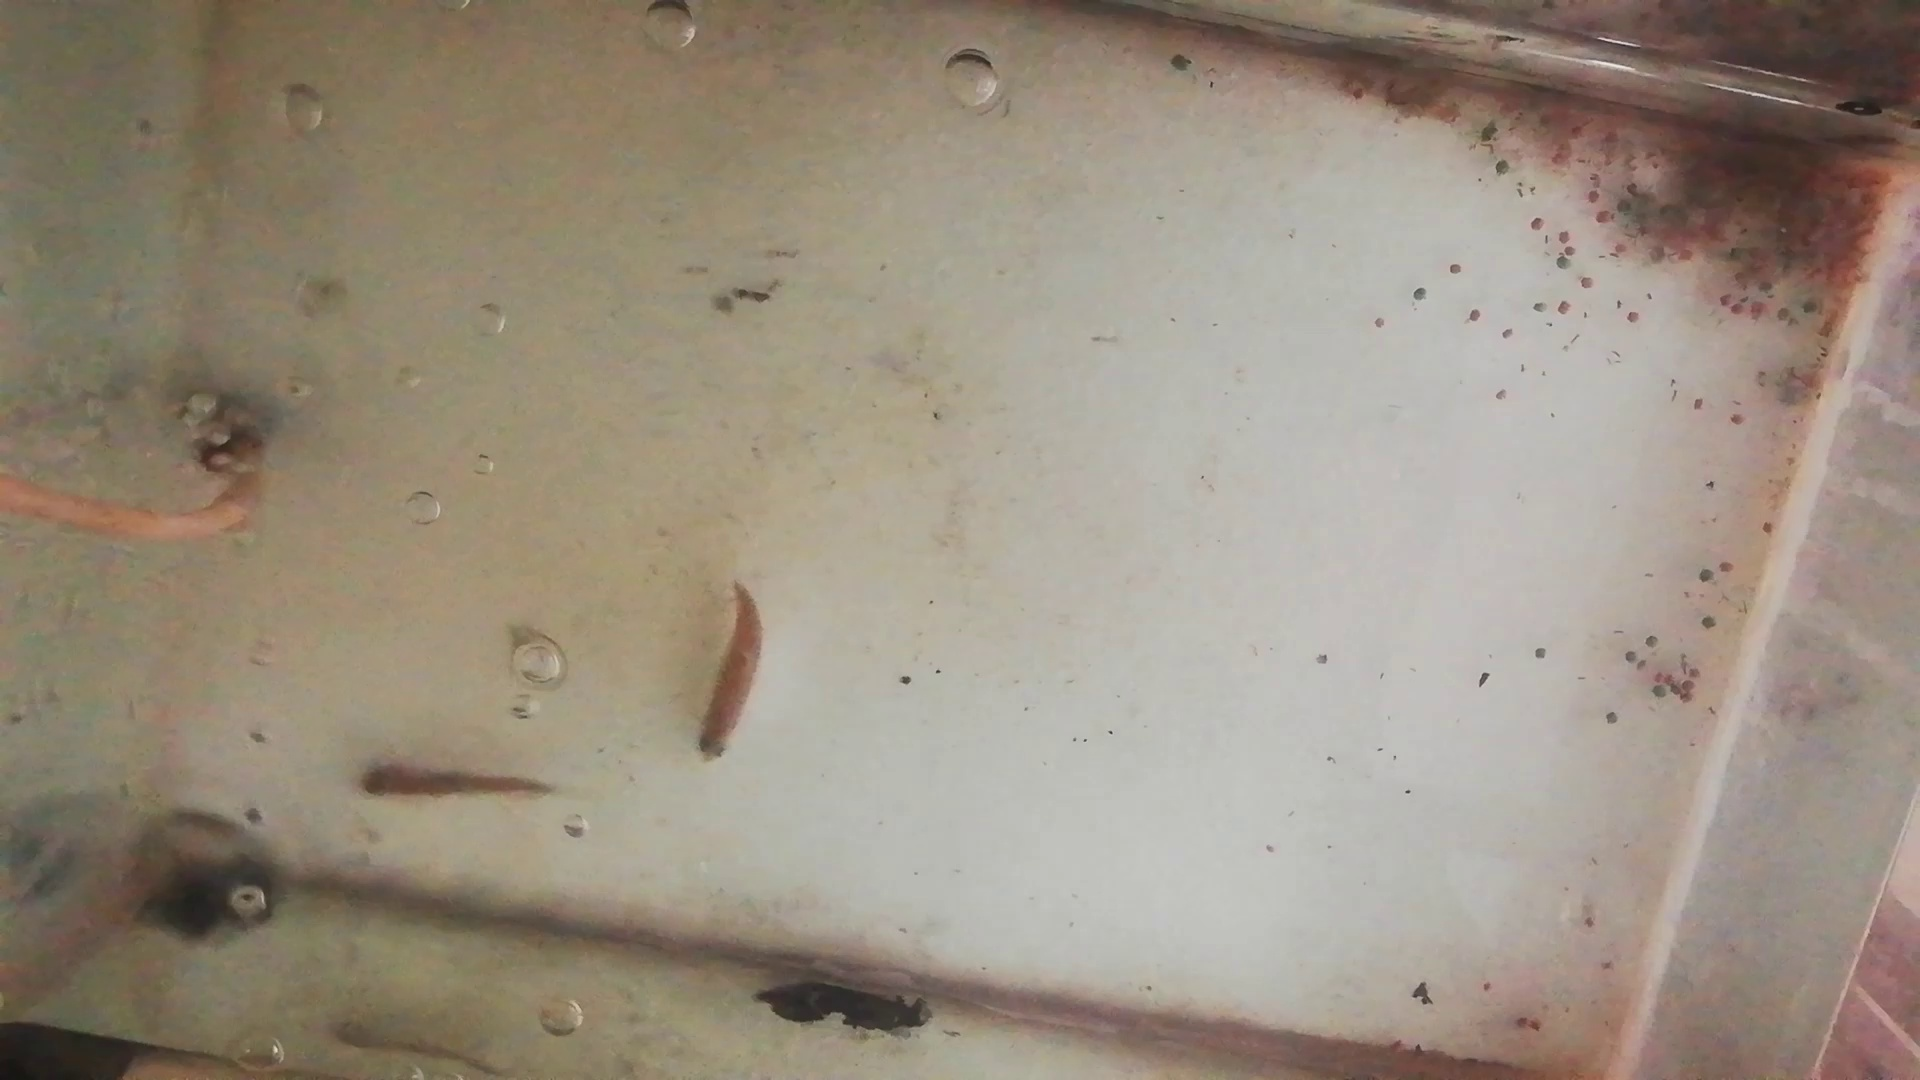fish: (696, 582, 767, 769), (355, 764, 558, 812)
